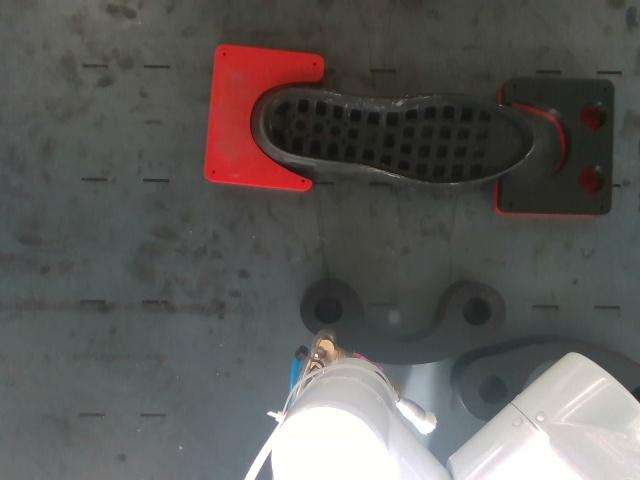shoes: (262, 88, 534, 184)
